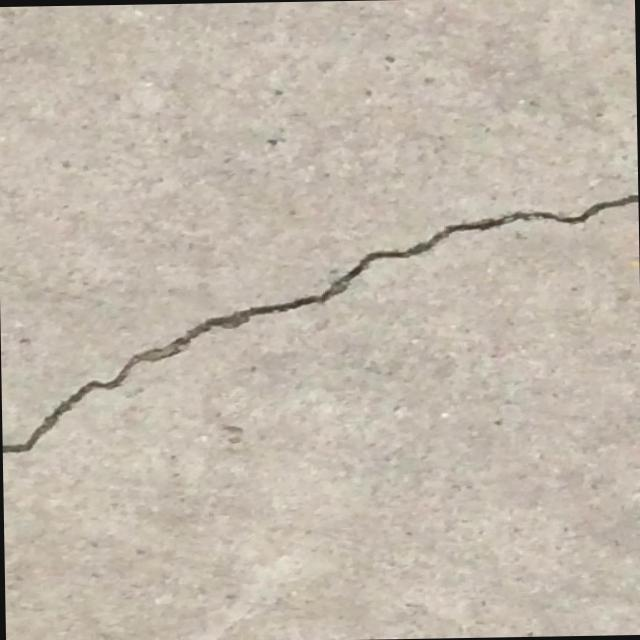crack: (0, 188, 639, 455)
